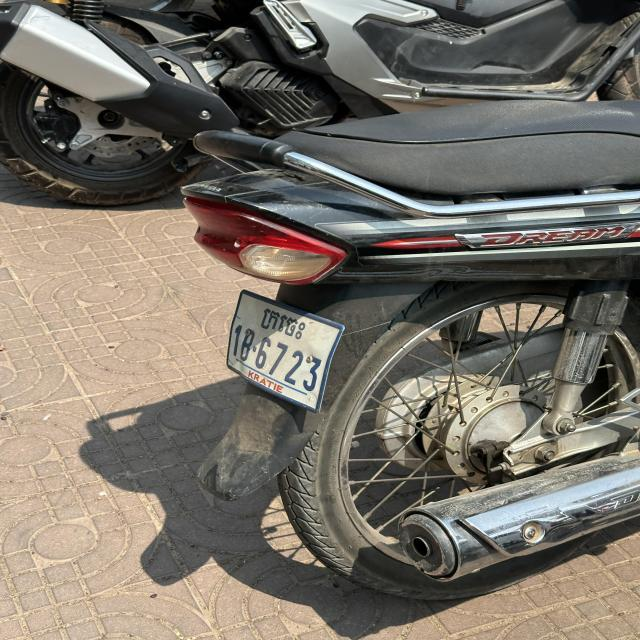Kratie: (258, 307, 306, 340)
